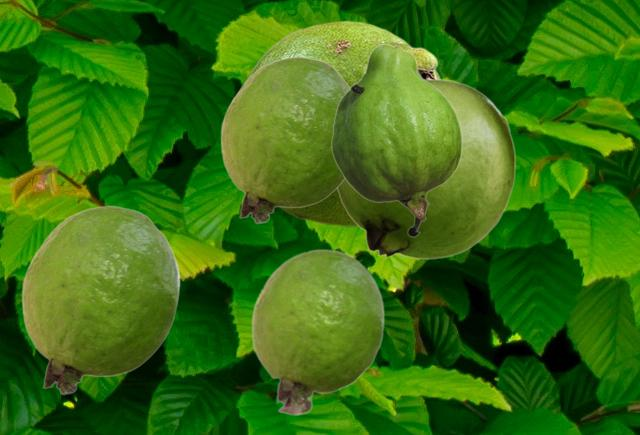guava: (242, 20, 442, 226), (335, 78, 515, 258), (21, 205, 179, 394), (330, 43, 461, 236), (251, 248, 384, 415), (220, 56, 349, 223)
